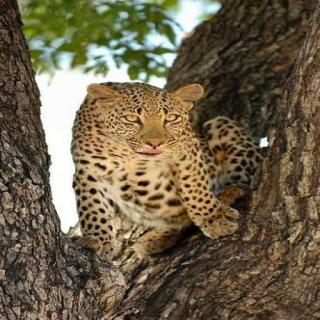Leopard: (71, 61, 274, 292)
